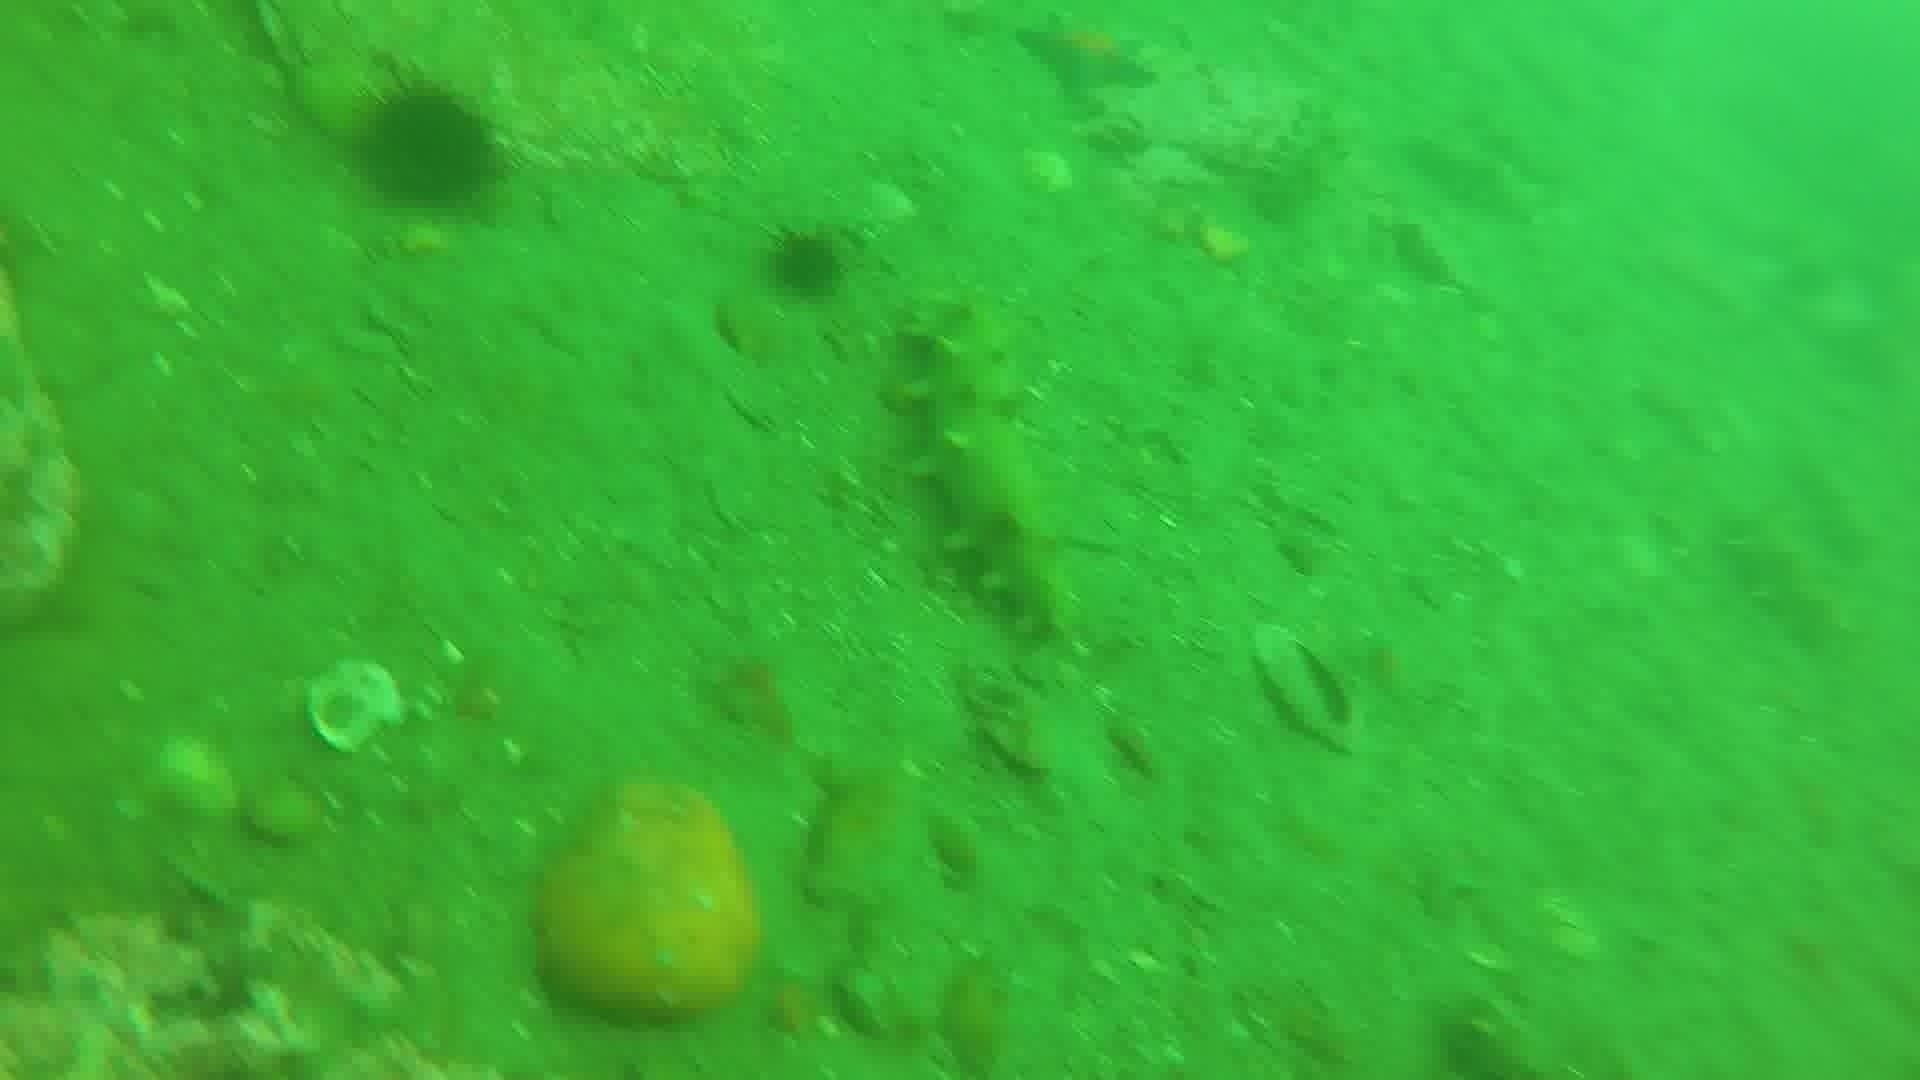echinus: (349, 78, 504, 216), (760, 225, 849, 303)
holothurian: (895, 290, 1080, 644), (1714, 502, 1851, 655)
starfish: (1010, 11, 1160, 105)
